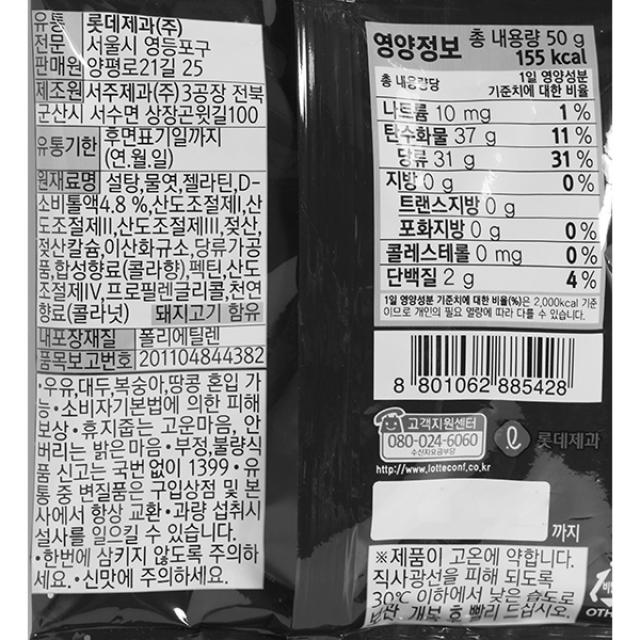Nutrition Label: (358, 12, 617, 334)
